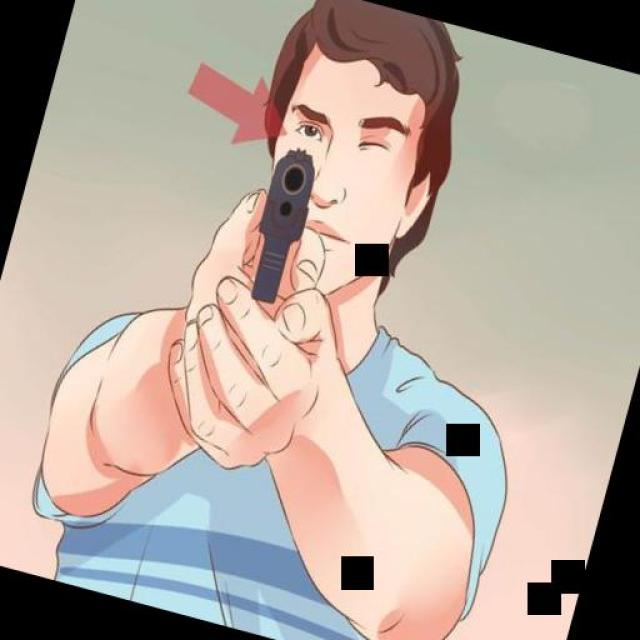gun: (238, 138, 326, 308)
